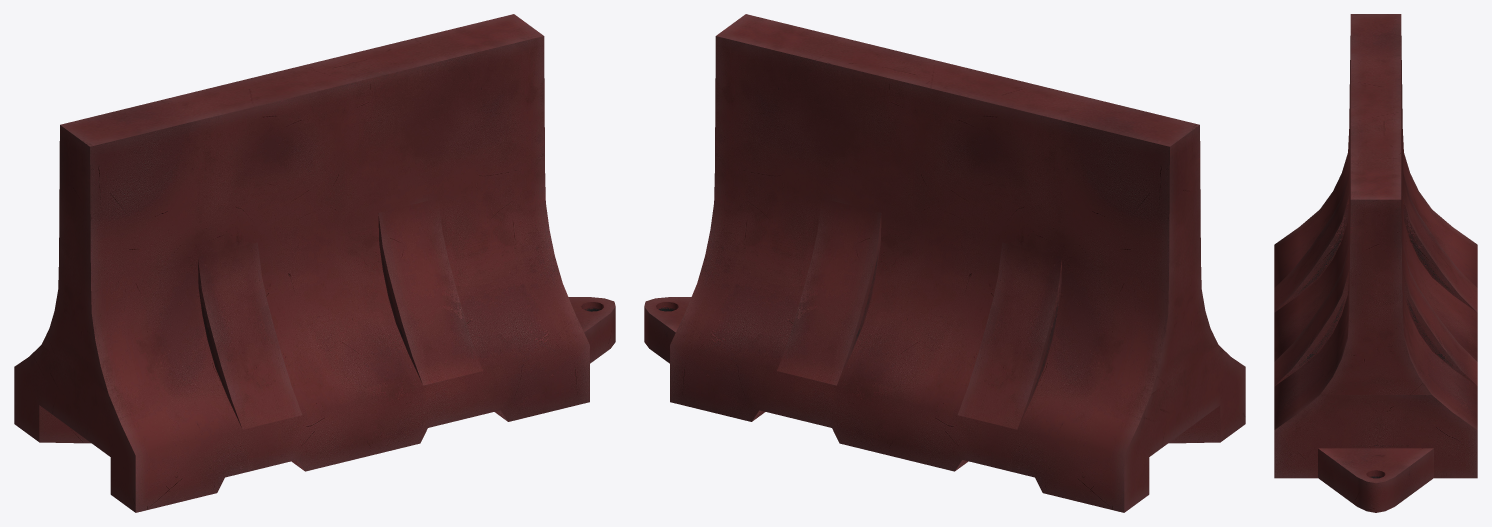
The model's file is red_barrier.obj.
3 renders of one model, left to right at view 1: azimuth 30°, elevation 25°; view 2: azimuth 150°, elevation 25°; view 3: azimuth 270°, elevation 25°, orthographic. The views are drawn at different scales.
Visible parts, largest first — view 1: SM_Plastic_Barrier_04_Plastic_Barrier_04.002; view 2: SM_Plastic_Barrier_04_Plastic_Barrier_04.002; view 3: SM_Plastic_Barrier_04_Plastic_Barrier_04.002.
Part boxes in pixels (x1,y1,x2,y2): SM_Plastic_Barrier_04_Plastic_Barrier_04.002: (14, 14, 615, 512); SM_Plastic_Barrier_04_Plastic_Barrier_04.002: (644, 14, 1245, 512); SM_Plastic_Barrier_04_Plastic_Barrier_04.002: (1274, 14, 1477, 512).
Size of the model in its own units: 1.19 by 0.7 by 0.4633.
1 material, 1 textured.
